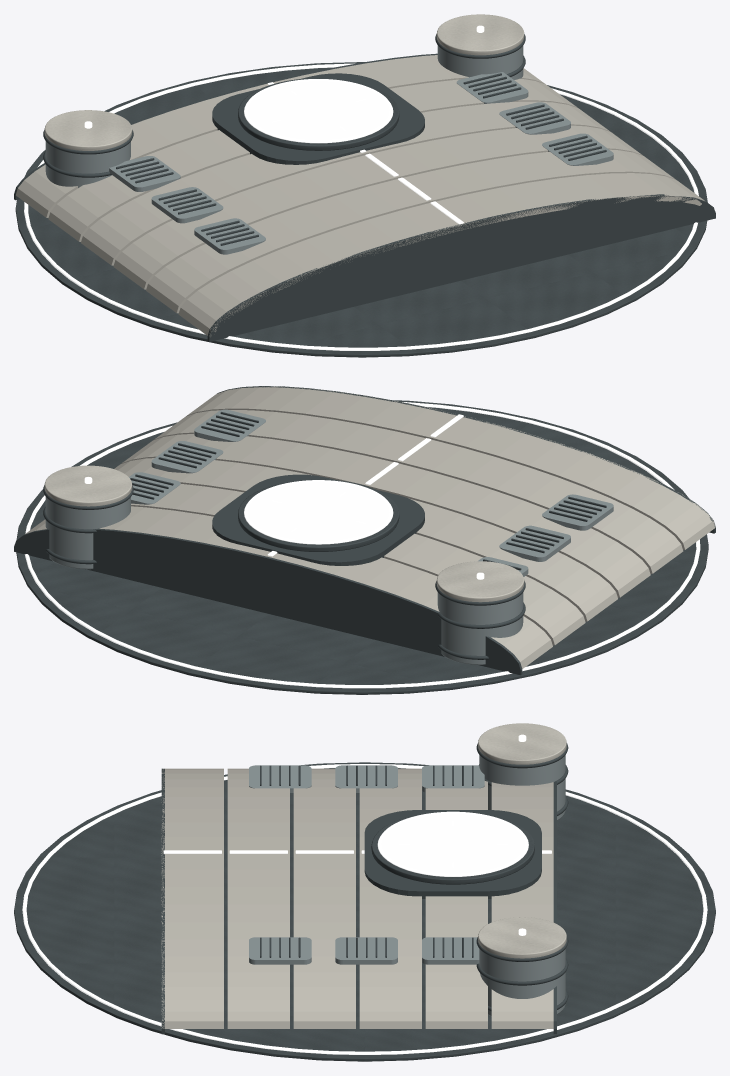
File: crown-foundry.glb
3 views of the same model, one above another, from view 1: azimuth 30°, elevation 25°; view 2: azimuth 150°, elevation 25°; view 3: azimuth 270°, elevation 25° (orthographic).
Visible parts, largest first — view 1: MF_Roof_Crown__structure_ivory_ceramic, MF_Roof_Crown__structure_graphite_joints, MF_Roof_Crown__brushed_titanium, MF_Roof_Crown__identity_roof_inset, MF_Roof_Crown__identity_trim, MF_Roof_Crown__identity_roof_ring; view 2: MF_Roof_Crown__structure_ivory_ceramic, MF_Roof_Crown__structure_graphite_joints, MF_Roof_Crown__brushed_titanium, MF_Roof_Crown__identity_roof_inset, MF_Roof_Crown__identity_trim, MF_Roof_Crown__identity_roof_ring; view 3: MF_Roof_Crown__structure_ivory_ceramic, MF_Roof_Crown__structure_graphite_joints, MF_Roof_Crown__brushed_titanium, MF_Roof_Crown__identity_roof_inset, MF_Roof_Crown__identity_trim, MF_Roof_Crown__identity_roof_ring.
Part boxes in pixels (<box>): MF_Roof_Crown__structure_ivory_ceramic: <box>15,14,714,336</box>; MF_Roof_Crown__structure_graphite_joints: <box>14,34,715,357</box>; MF_Roof_Crown__brushed_titanium: <box>45,45,613,254</box>; MF_Roof_Crown__identity_roof_inset: <box>244,81,393,143</box>; MF_Roof_Crown__identity_trim: <box>24,63,698,350</box>; MF_Roof_Crown__identity_roof_ring: <box>244,79,392,142</box>; MF_Roof_Crown__structure_ivory_ceramic: <box>25,386,715,668</box>; MF_Roof_Crown__structure_graphite_joints: <box>14,386,715,694</box>; MF_Roof_Crown__brushed_titanium: <box>45,409,613,664</box>; MF_Roof_Crown__identity_roof_inset: <box>244,482,393,544</box>; MF_Roof_Crown__identity_trim: <box>24,402,700,688</box>; MF_Roof_Crown__identity_roof_ring: <box>244,480,392,543</box>; MF_Roof_Crown__structure_ivory_ceramic: <box>161,723,566,1028</box>; MF_Roof_Crown__structure_graphite_joints: <box>14,743,715,1061</box>; MF_Roof_Crown__brushed_titanium: <box>249,755,565,1016</box>; MF_Roof_Crown__identity_roof_inset: <box>377,814,528,876</box>; MF_Roof_Crown__identity_trim: <box>22,764,707,1054</box>; MF_Roof_Crown__identity_roof_ring: <box>378,811,527,875</box>.
Bounding box in the file's own units: 16.8 × 2.13 × 16.8.
7 materials, 2 textured.
